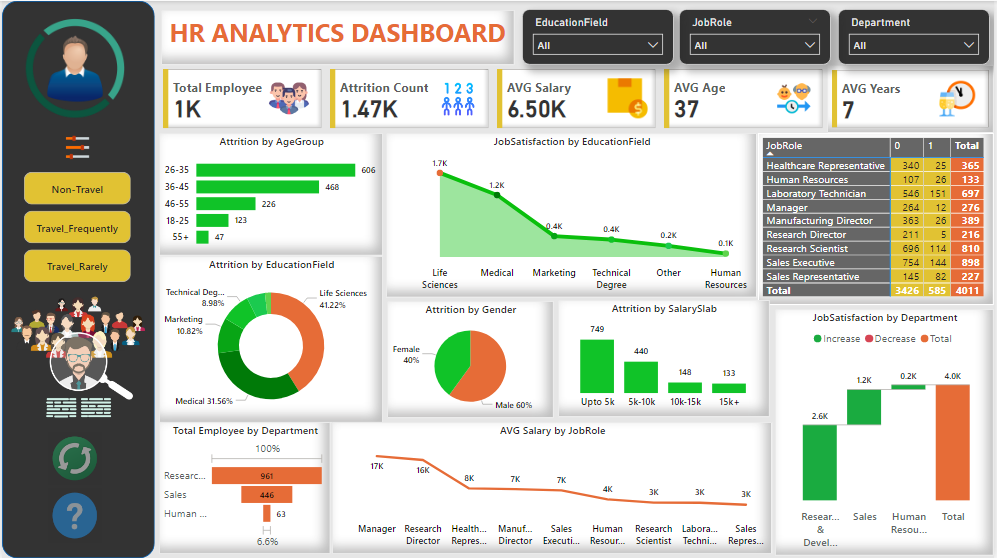

Layout of this report page (visuals, bound fields, positions):
{"tool":"powerbi","page":{"name":"Page 1","canvas":[1280,720],"ordinal":0},"visuals":[{"type":"shape","box":[0,0,197.3,719.5],"z":0},{"type":"cardVisual","title":"Total Employee","fields":{"Data":["HR_Analytics.Total Employee"]},"box":[202.7,82.2,215.4,87.9],"z":1000},{"type":"cardVisual","title":"Total Employee","fields":{"Data":["CountNonNull(HR_Analytics.Attrition)"]},"box":[418.1,82.2,215.4,87.9],"z":2000},{"type":"cardVisual","title":"Total Employee","fields":{"Data":["HR_Analytics.AVG Age"]},"box":[849,82.2,215.4,87.9],"z":3000},{"type":"cardVisual","title":"Total Employee","fields":{"Data":["HR_Analytics.AVG Years"]},"box":[1064.4,82.2,215.4,87.9],"z":4000},{"type":"cardVisual","title":"Total Employee","fields":{"Data":["HR_Analytics.AVG Salary"]},"box":[633.5,82.2,215.4,87.9],"z":5000},{"type":"donutChart","title":"Attrition by EducationField","fields":{"Category":["HR_Analytics.EducationField"],"Y":["CountNonNull(HR_Analytics.AttritionCount)"]},"box":[202.3,328.9,289,214.7],"z":6000},{"type":"clusteredBarChart","title":"Attrition by AgeGroup","fields":{"Category":["HR_Analytics.AgeGroup"],"Y":["CountNonNull(HR_Analytics.AttritionCount)"]},"box":[202.3,170.7,289,158.3],"z":7000},{"type":"lineChart","fields":{"Category":["HR_Analytics.JobRole"],"Y":["HR_Analytics.AVG Salary"]},"box":[425.7,543.5,567.6,170.3],"z":8000},{"type":"slicer","fields":{"Values":["HR_Analytics.Department"]},"box":[1078.5,9.9,195.8,72.4],"z":9000},{"type":"slicer","fields":{"Values":["HR_Analytics.JobRole"]},"box":[874.1,9.9,195.8,72.4],"z":10000},{"type":"slicer","fields":{"Values":["HR_Analytics.EducationField"]},"box":[671.2,9.9,195.8,72.4],"z":11000},{"type":"pieChart","title":"Attrition by Gender","fields":{"Category":["HR_Analytics.Gender"],"Y":["CountNonNull(HR_Analytics.AttritionCount)"]},"box":[496.9,386.8,214.7,151.4],"z":12000},{"type":"textbox","box":[205.8,11.4,455.5,71],"z":13000},{"type":"waterfallChart","title":"JobSatisfaction by Department","fields":{"Category":["HR_Analytics.Department"],"Y":["Sum(HR_Analytics.JobSatisfaction)"]},"box":[997.8,397.8,282.2,317.9],"z":14000},{"type":"pivotTable","fields":{"Rows":["HR_Analytics.JobRole"],"Values":["Sum(HR_Analytics.JobSatisfaction)"],"Columns":["HR_Analytics.AttritionCount"]},"box":[975.8,170.7,304.2,221.6],"z":15000},{"type":"columnChart","title":"Attrition by SalarySlab","fields":{"Category":["HR_Analytics.SalarySlab"],"Y":["CountNonNull(HR_Analytics.AttritionCount)"]},"box":[717.1,385.4,272.5,151.4],"z":16000},{"type":"funnel","fields":{"Category":["HR_Analytics.Department"],"Y":["HR_Analytics.Total Employee"]},"box":[202.9,543.5,221.4,170.3],"z":17000},{"type":"advancedSlicerVisual","fields":{"Values":["HR_Analytics.BusinessTravel"]},"box":[23.5,215.9,148.1,153.6],"z":18000},{"type":"image","box":[2.8,9.9,183.1,153.3],"z":19000},{"type":"image","box":[6.9,344.6,182.7,211.7],"z":20000},{"type":"image","box":[331.7,93.6,77.1,63.3],"z":21000},{"type":"image","box":[553.3,100.5,70.2,52.3],"z":22000},{"type":"image","box":[769.4,86.7,68.8,70.2],"z":23000},{"type":"image","box":[992.3,89.5,59.2,70.2],"z":24000},{"type":"image","box":[1200.2,90.8,64.7,70.2],"z":25000},{"type":"areaChart","title":"JobSatisfaction by EducationField","fields":{"Category":["HR_Analytics.EducationField"],"Y":["Sum(HR_Analytics.JobSatisfaction)"]},"box":[495.5,170.7,479,212],"z":26000},{"type":"actionButton","box":[59.5,556.3,69.2,67.8],"z":26003},{"type":"actionButton","box":[59.5,628.2,69.2,70.6],"z":26004},{"type":"image","box":[47,163.3,102.4,49.8],"z":26005}]}

Visuals, with their boxes in screenshot pixels (x1, y1, x2, y2), scaled from the page's 1280x720 canvas onto the 997x558 screenshot:
shape: (x1=0, y1=0, x2=154, y2=557)
"Total Employee" cardVisual: (x1=158, y1=64, x2=326, y2=132)
"Total Employee" cardVisual: (x1=326, y1=64, x2=493, y2=132)
"Total Employee" cardVisual: (x1=661, y1=64, x2=829, y2=132)
"Total Employee" cardVisual: (x1=829, y1=64, x2=996, y2=132)
"Total Employee" cardVisual: (x1=493, y1=64, x2=661, y2=132)
"Attrition by EducationField" donutChart: (x1=158, y1=255, x2=383, y2=421)
"Attrition by AgeGroup" clusteredBarChart: (x1=158, y1=132, x2=383, y2=255)
lineChart - HR_Analytics.JobRole x HR_Analytics.AVG Salary: (x1=332, y1=421, x2=774, y2=553)
slicer - HR_Analytics.Department: (x1=840, y1=8, x2=993, y2=64)
slicer - HR_Analytics.JobRole: (x1=681, y1=8, x2=833, y2=64)
slicer - HR_Analytics.EducationField: (x1=523, y1=8, x2=675, y2=64)
"Attrition by Gender" pieChart: (x1=387, y1=300, x2=554, y2=417)
textbox: (x1=160, y1=9, x2=515, y2=64)
"JobSatisfaction by Department" waterfallChart: (x1=777, y1=308, x2=996, y2=555)
pivotTable - HR_Analytics.JobRole x Sum(HR_Analytics.JobSatisfaction): (x1=760, y1=132, x2=996, y2=304)
"Attrition by SalarySlab" columnChart: (x1=559, y1=299, x2=771, y2=416)
funnel - HR_Analytics.Department x HR_Analytics.Total Employee: (x1=158, y1=421, x2=330, y2=553)
advancedSlicerVisual - HR_Analytics.BusinessTravel: (x1=18, y1=167, x2=134, y2=286)
image: (x1=2, y1=8, x2=145, y2=126)
image: (x1=5, y1=267, x2=148, y2=431)
image: (x1=258, y1=73, x2=318, y2=122)
image: (x1=431, y1=78, x2=486, y2=118)
image: (x1=599, y1=67, x2=653, y2=122)
image: (x1=773, y1=69, x2=819, y2=124)
image: (x1=935, y1=70, x2=985, y2=125)
"JobSatisfaction by EducationField" areaChart: (x1=386, y1=132, x2=759, y2=297)
actionButton: (x1=46, y1=431, x2=100, y2=484)
actionButton: (x1=46, y1=487, x2=100, y2=542)
image: (x1=37, y1=127, x2=116, y2=165)
